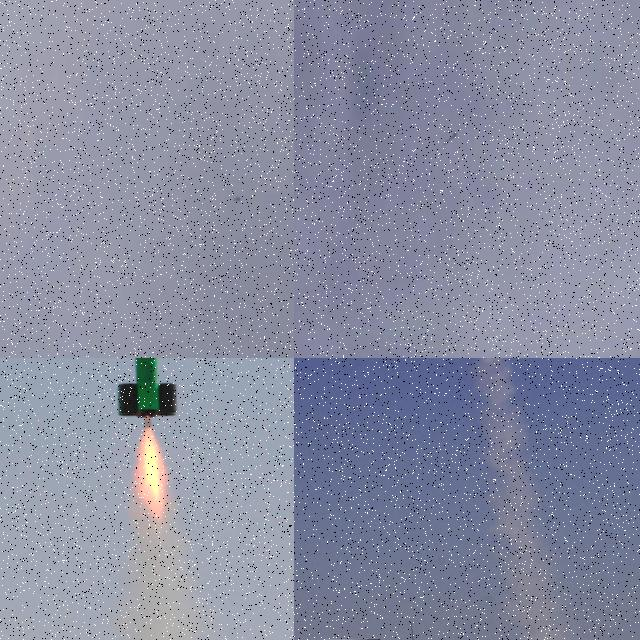Rocket: (117, 358, 178, 418), (443, 131, 458, 145), (233, 195, 241, 202)
